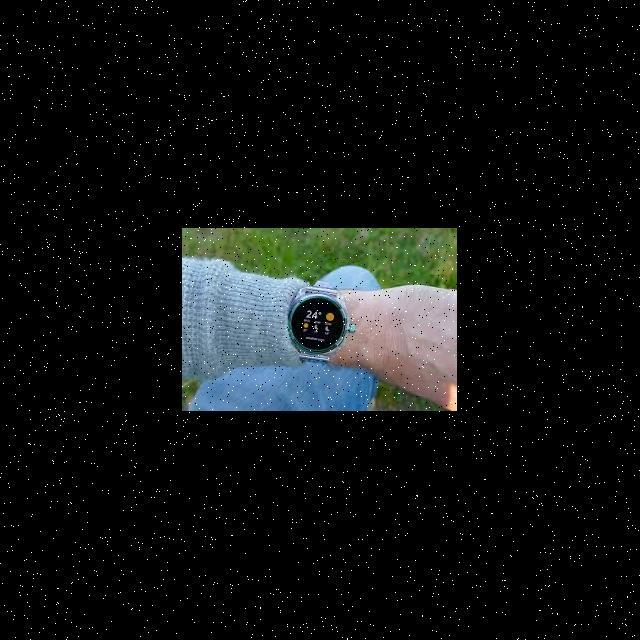watch: (271, 254, 365, 356)
